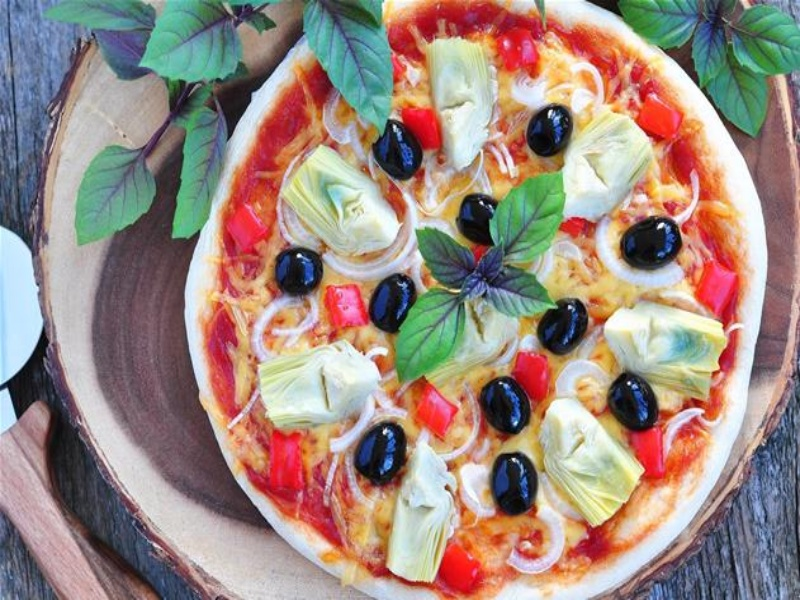pepperonis: (256, 369, 342, 453), (462, 325, 548, 398), (107, 226, 196, 292), (261, 212, 342, 282), (556, 192, 635, 263), (358, 357, 437, 427), (195, 299, 279, 361), (368, 178, 446, 244), (422, 245, 500, 310), (238, 88, 314, 152), (468, 163, 545, 222), (356, 108, 429, 166), (200, 36, 273, 89), (452, 31, 512, 93), (331, 29, 395, 84), (189, 155, 255, 208), (136, 112, 201, 165), (509, 93, 576, 144)
